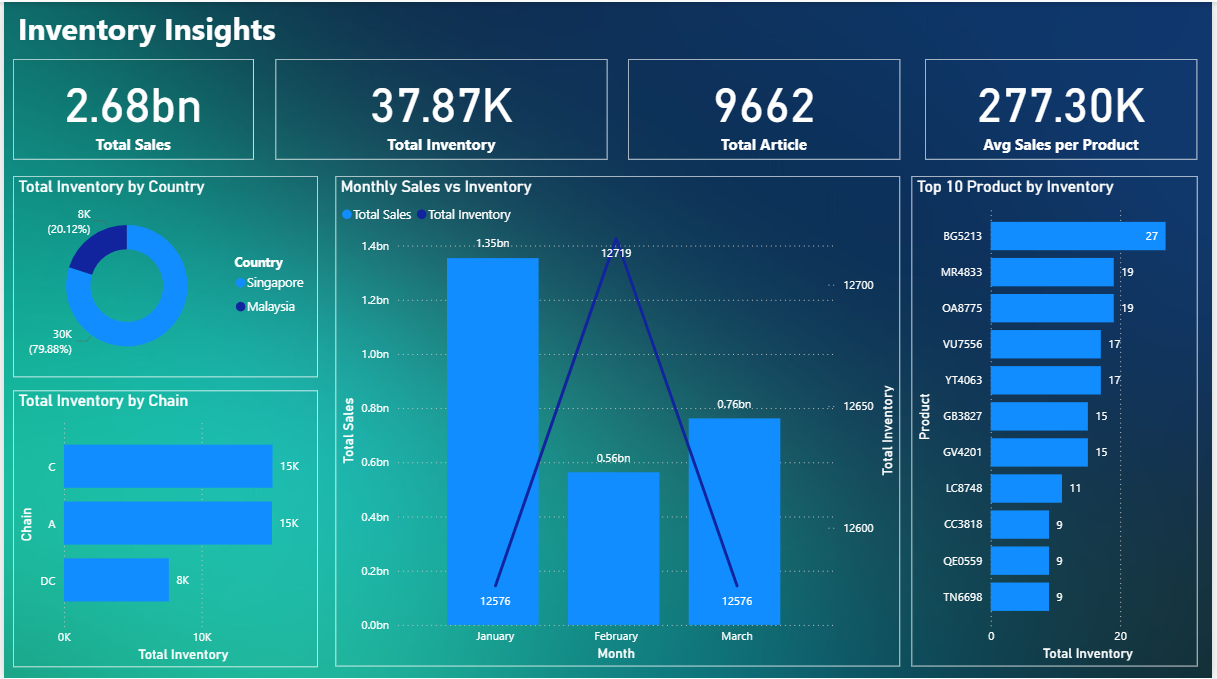

Layout of this report page (visuals, bound fields, positions):
{"tool":"powerbi","page":{"name":"Inventory Insights","canvas":[1280,720],"ordinal":2},"visuals":[{"type":"textbox","box":[10,0,296.7,60],"z":0},{"type":"card","fields":{"Values":["Fact_Sales.Total Sales"]},"box":[10,60,255,106.7],"z":1000},{"type":"card","fields":{"Values":["Fact_Inventory.Total Inventory"]},"box":[288.3,60,351.7,106.7],"z":2000},{"type":"card","fields":{"Values":["Fact_Sales.Total Article"]},"box":[661.7,60,288.3,106.7],"z":3000},{"type":"card","fields":{"Values":["Dim_Article.Avg Sales per Product"]},"box":[976.7,60,288.3,106.7],"z":4000},{"type":"clusteredBarChart","fields":{"Y":["Fact_Inventory.Total Inventory"],"Category":["Dim_Chain1.Chain"]},"box":[10,411.7,323.3,293.3],"z":5000},{"type":"donutChart","fields":{"Category":["Dim_Country.Country"],"Y":["Fact_Inventory.Total Inventory"]},"box":[10,185,323.3,213.3],"z":6000},{"type":"lineClusteredColumnComboChart","title":"Monthly Sales vs Inventory","fields":{"Category":["Dim_Date.Date.Variation.Date Hierarchy.Month"],"Y":["Fact_Sales.Total Sales"],"Y2":["Fact_Inventory.Total Inventory"]},"box":[351.7,185,598.3,520],"z":7000},{"type":"barChart","title":"Top 10 Product by Inventory","fields":{"Category":["Dim_Article.Article No."],"Y":["Fact_Inventory.Total Inventory"]},"box":[961.7,185,303.3,520],"z":8000}]}

Visuals, with their boxes in screenshot pixels (x1, y1, x2, y2), scaled from the page's 1280x720 canvas onto the 1217x679 screenshot:
textbox: 10/0/292/57
card - Fact_Sales.Total Sales: 10/57/252/157
card - Fact_Inventory.Total Inventory: 274/57/608/157
card - Fact_Sales.Total Article: 629/57/903/157
card - Dim_Article.Avg Sales per Product: 929/57/1203/157
clusteredBarChart - Fact_Inventory.Total Inventory x Dim_Chain1.Chain: 10/388/317/665
donutChart - Dim_Country.Country x Fact_Inventory.Total Inventory: 10/174/317/376
"Monthly Sales vs Inventory" lineClusteredColumnComboChart: 334/174/903/665
"Top 10 Product by Inventory" barChart: 914/174/1203/665
